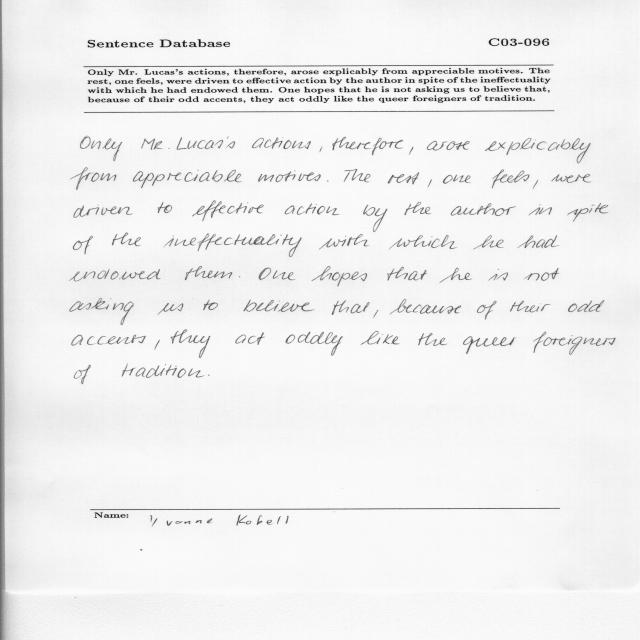word: (164, 234, 302, 257), (485, 138, 591, 163), (133, 170, 242, 188), (533, 332, 616, 355), (70, 298, 134, 325), (192, 201, 264, 221), (285, 332, 343, 356), (332, 137, 403, 155), (122, 363, 204, 378), (171, 330, 211, 358), (312, 267, 367, 287), (70, 270, 161, 282), (390, 299, 461, 314), (71, 168, 117, 190), (81, 137, 123, 161), (463, 336, 516, 354), (389, 235, 457, 249), (243, 300, 315, 312), (451, 203, 516, 216), (72, 335, 146, 346), (319, 234, 369, 250), (567, 203, 608, 222), (74, 205, 133, 218), (177, 137, 235, 150), (252, 137, 311, 149), (492, 170, 529, 189), (258, 171, 321, 182), (185, 266, 232, 280), (363, 205, 387, 232), (285, 204, 340, 215), (332, 300, 370, 315), (388, 267, 428, 281), (361, 331, 400, 345), (518, 236, 559, 249), (440, 268, 473, 283), (524, 268, 559, 281), (510, 301, 550, 312), (473, 236, 504, 250), (259, 268, 295, 280), (568, 301, 604, 313), (427, 141, 470, 151), (388, 172, 419, 185), (112, 233, 141, 246), (236, 332, 265, 345), (419, 333, 448, 346), (477, 301, 496, 320), (552, 174, 592, 183), (74, 236, 94, 254), (344, 169, 371, 182), (404, 202, 431, 215), (142, 138, 170, 150), (74, 365, 91, 384), (158, 303, 183, 315), (529, 205, 552, 216), (443, 175, 471, 184), (489, 269, 508, 281), (158, 202, 172, 213), (203, 300, 218, 310), (154, 339, 160, 350), (533, 180, 538, 189), (374, 310, 379, 318), (410, 147, 414, 155), (428, 179, 432, 187), (320, 147, 323, 152), (327, 180, 328, 182), (208, 375, 210, 376), (239, 277, 240, 278)
